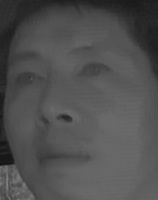eye: (76, 60, 113, 84), (15, 70, 45, 88)
mouth: (33, 143, 93, 173)
